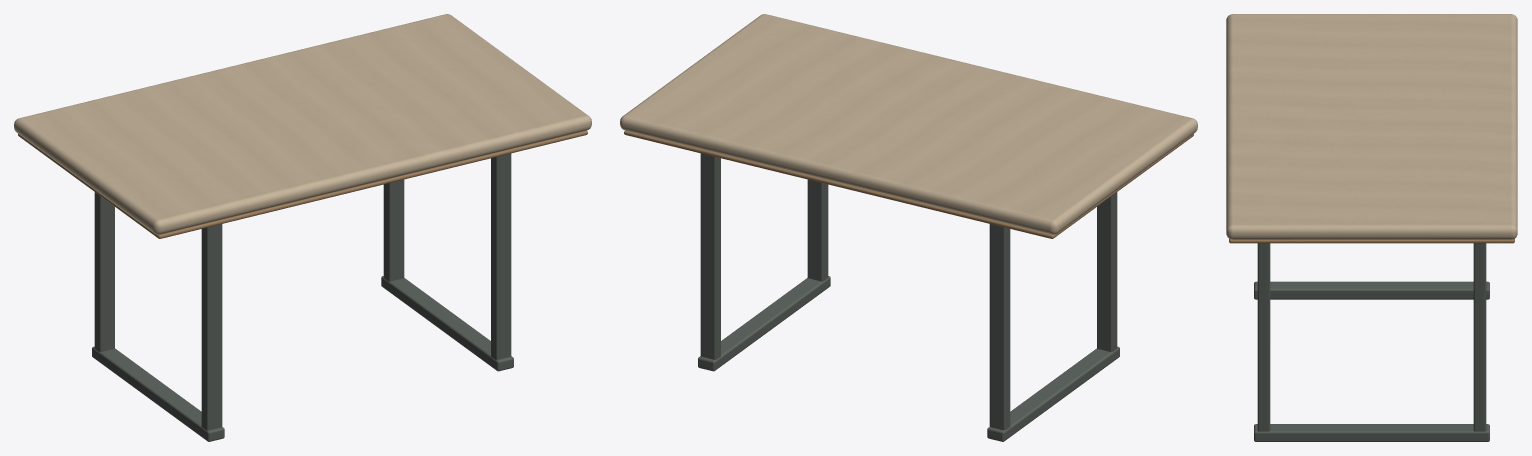
The picture shows the model from 3 angles, left to right: view 1: azimuth 30°, elevation 25°; view 2: azimuth 150°, elevation 25°; view 3: azimuth 270°, elevation 25°; orthographic projection.
Visible parts, largest first — view 1: tabletop, u_upright_-1_1, u_upright_1_1, u_upright_-1_-1, u_foot_-1, u_foot_1, table_edge, u_upright_1_-1; view 2: tabletop, u_upright_-1_-1, u_upright_1_-1, u_upright_-1_1, u_foot_-1, u_foot_1, table_edge, u_upright_1_1; view 3: tabletop, u_foot_1, u_foot_-1, u_upright_1_-1, u_upright_1_1, table_edge.
Boxes of the visible parts, bbox=[...] form: tabletop: bbox=[14, 14, 591, 234]; u_upright_-1_1: bbox=[201, 224, 222, 430]; u_upright_1_1: bbox=[491, 153, 511, 359]; u_upright_-1_-1: bbox=[94, 192, 114, 351]; u_foot_-1: bbox=[92, 346, 224, 441]; u_foot_1: bbox=[381, 276, 513, 371]; table_edge: bbox=[18, 130, 587, 238]; u_upright_1_-1: bbox=[383, 179, 404, 281]; tabletop: bbox=[620, 14, 1197, 234]; u_upright_-1_-1: bbox=[989, 224, 1010, 430]; u_upright_1_-1: bbox=[700, 153, 720, 359]; u_upright_-1_1: bbox=[1097, 192, 1117, 351]; u_foot_-1: bbox=[987, 346, 1119, 441]; u_foot_1: bbox=[698, 276, 830, 371]; table_edge: bbox=[624, 130, 1193, 238]; u_upright_1_1: bbox=[807, 179, 828, 281]; tabletop: bbox=[1226, 14, 1517, 239]; u_foot_1: bbox=[1254, 424, 1489, 441]; u_foot_-1: bbox=[1254, 281, 1489, 299]; u_upright_1_-1: bbox=[1473, 243, 1486, 431]; u_upright_1_1: bbox=[1257, 243, 1270, 431]; table_edge: bbox=[1229, 239, 1514, 243].
Bounding box in the file's own units: 1.4 × 0.75 × 0.8.
Materials: 3 (2 with a texture image).
